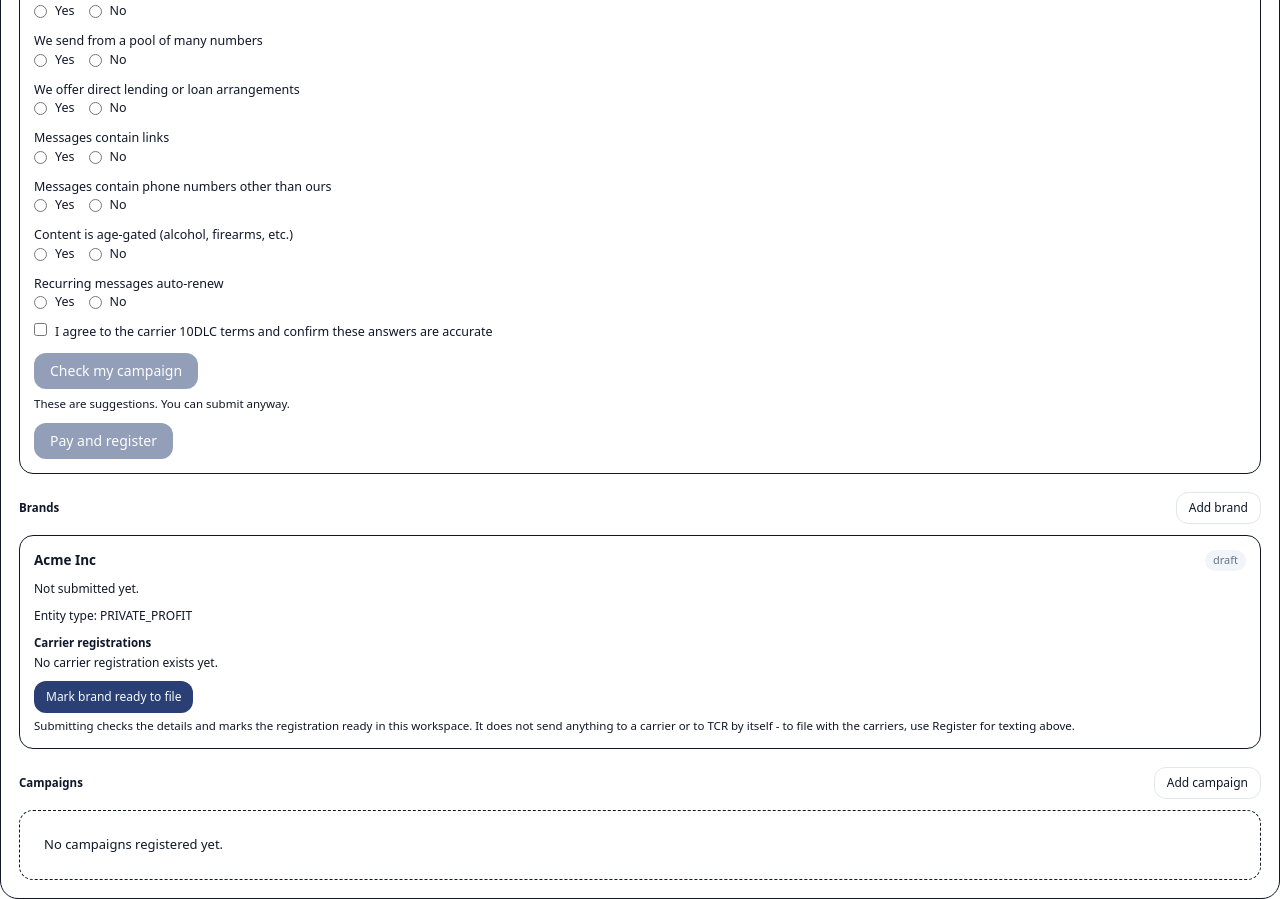
TenDlcRegistration brands › submitting a brand posts to the submit path with no body
This screenshot has width=1280, height=899.
(page scrolled)
Click the button with aria-label "Mark brand ready to file: Acme Inc": (114, 697) [34,681,194,713]
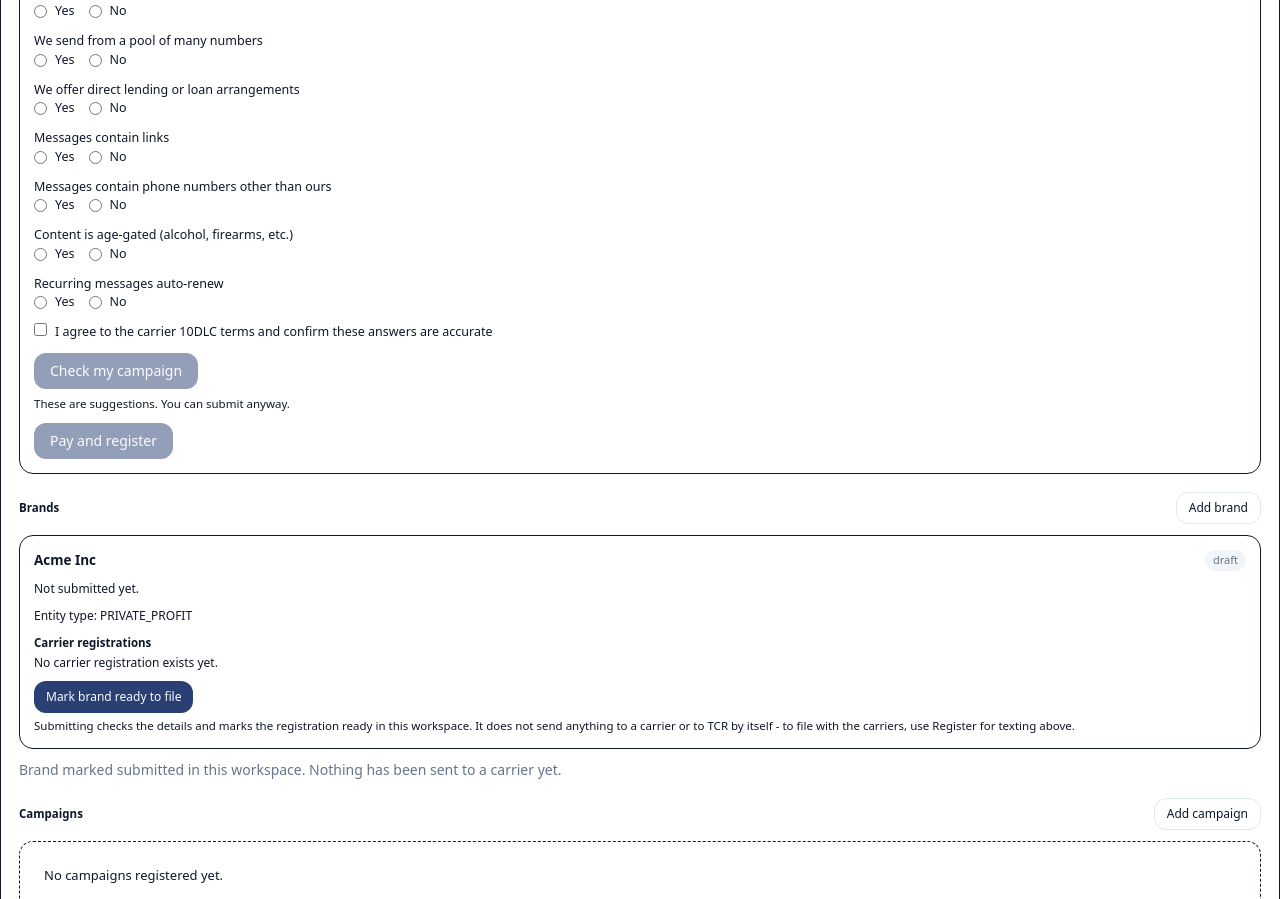
Check: the text "Brand marked submitted in this workspace. Nothing has been sent to a carrier yet." is shown, box [19,760,562,779]
